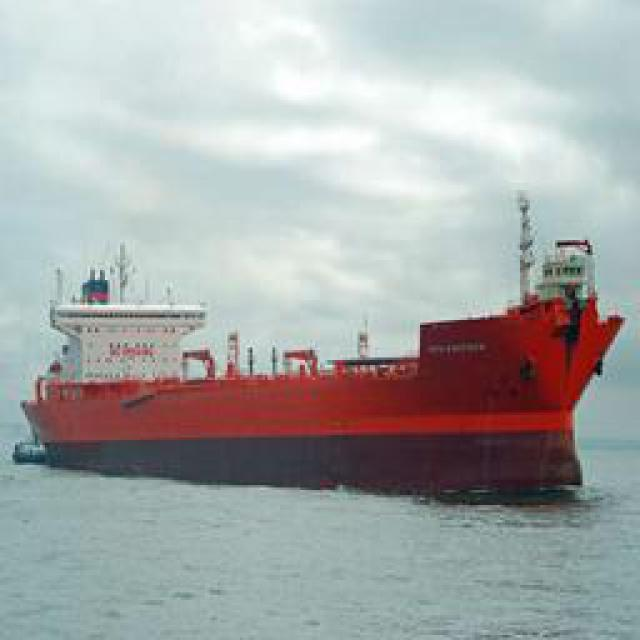Ship: (26, 210, 621, 490)
